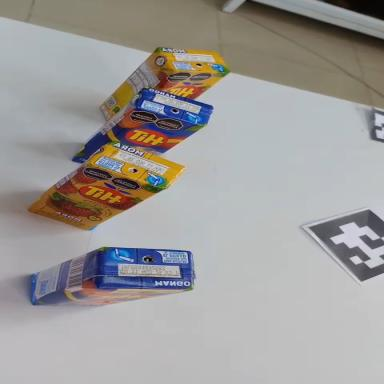HIT-MANGO: (25, 233, 198, 316), (66, 80, 218, 162)
HIT-MORA: (18, 116, 189, 251), (91, 32, 233, 120)
cara_F: (21, 138, 167, 253), (34, 288, 193, 307)
